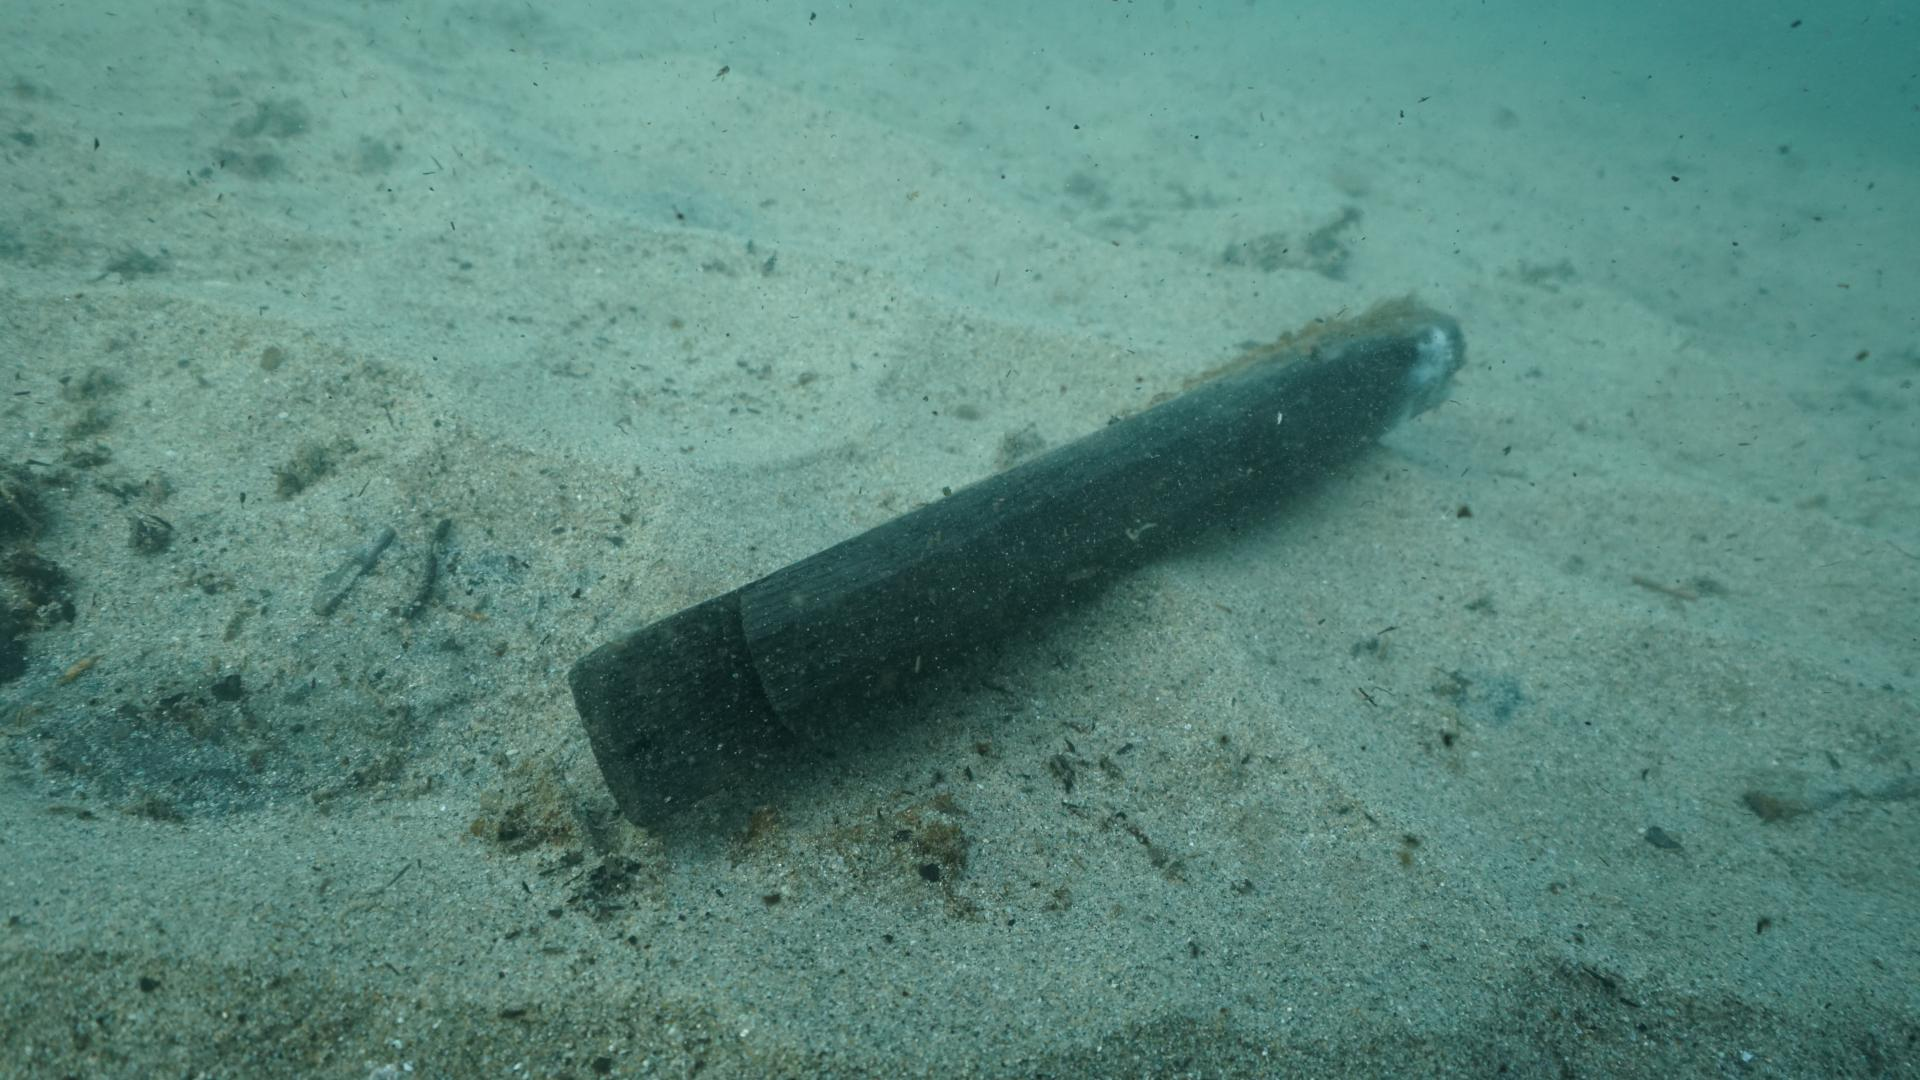wood: (570, 295, 1461, 825)
